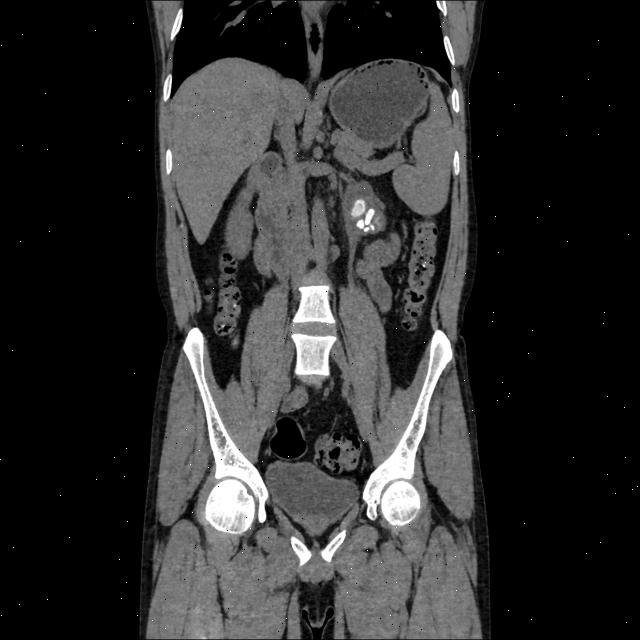kidneystone: (351, 199, 365, 218), (365, 208, 375, 225), (356, 221, 369, 233)
